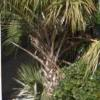Palm tree: (21, 4, 72, 98)
